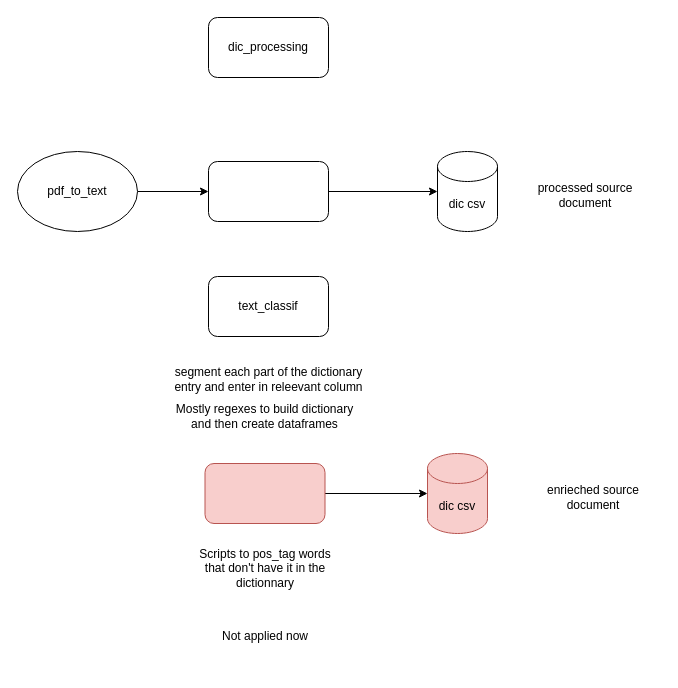
Some shapes in this 678 by 688 pixel diagram are drawn without their labels. The shapes that lost their labels are listed below. From the top down, each one's centre as x and y in pixels, then its label:
the point at 268,191: Main
the point at 264,493: pos_tagging
